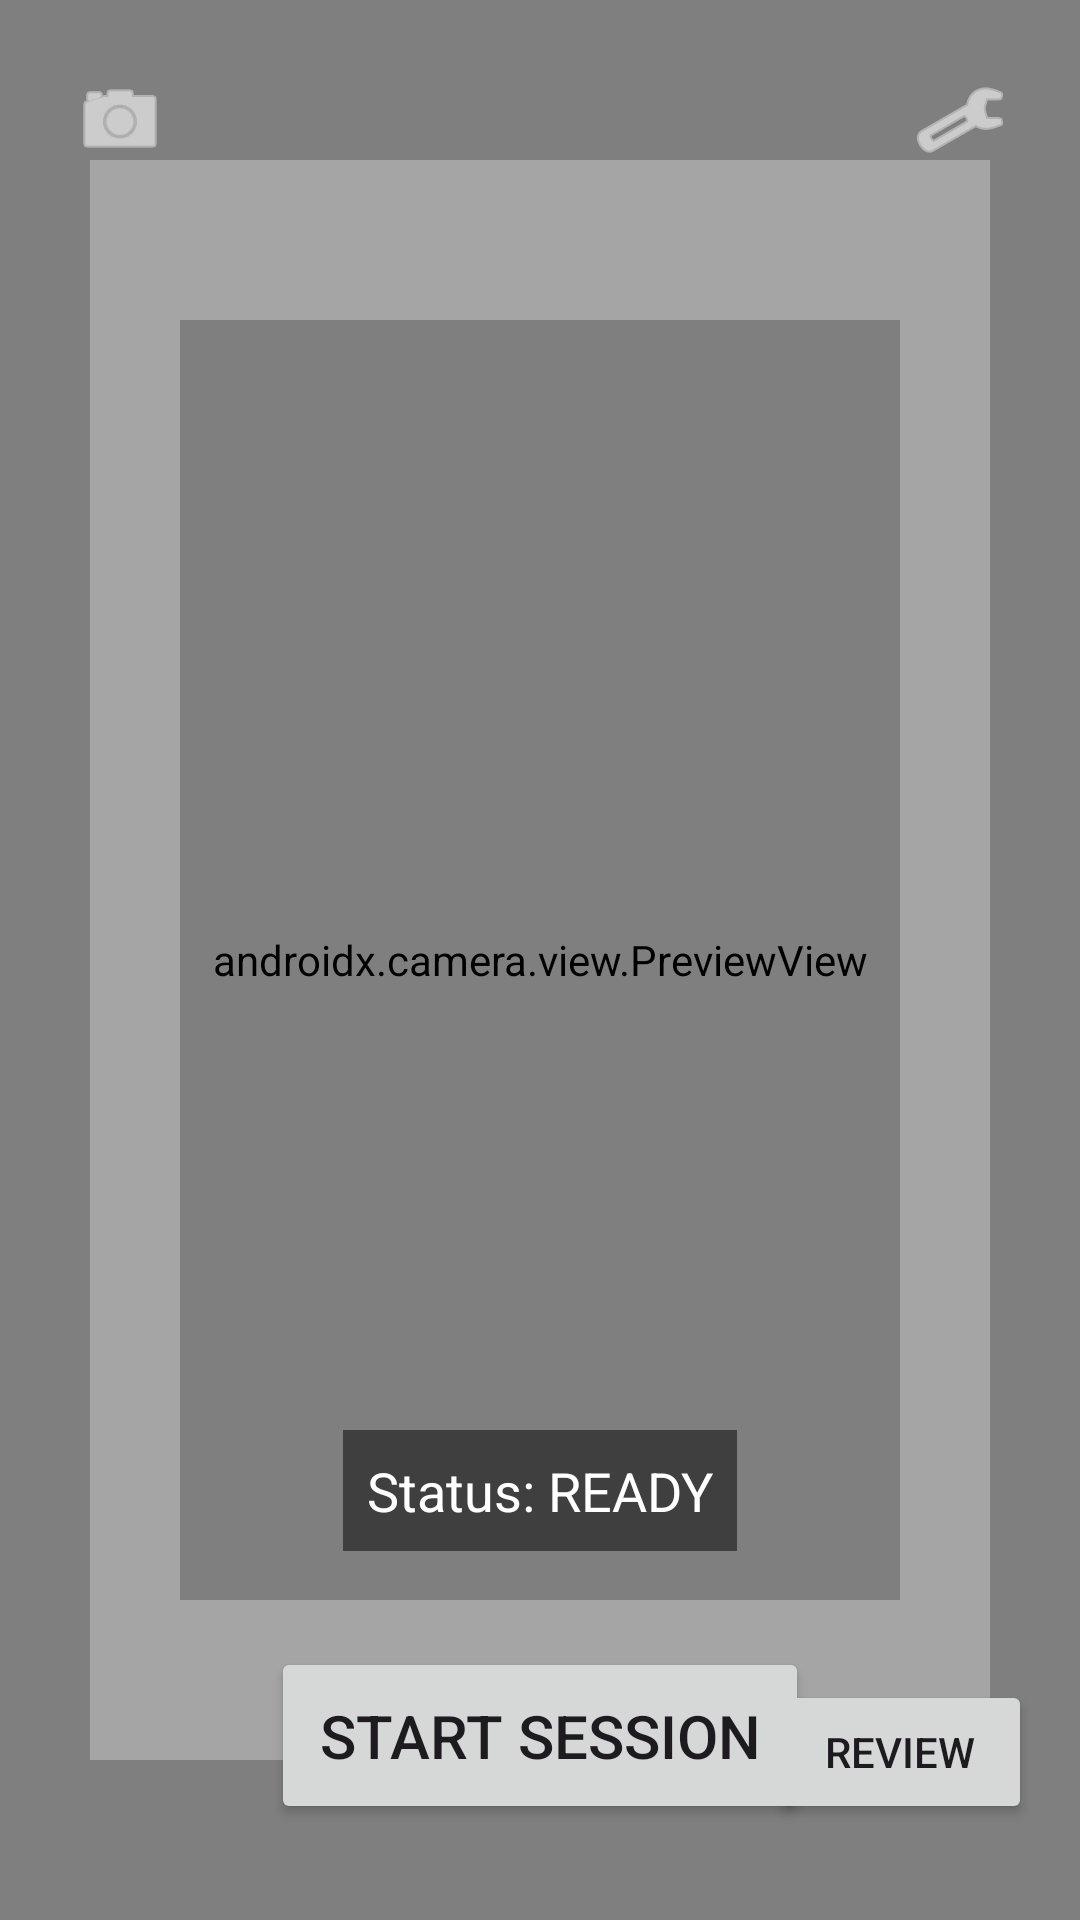

Icons on this 1080px×1920px Android screen, each with the point to tap as (x=x, y=y):
preferences: (x=945, y=139)
